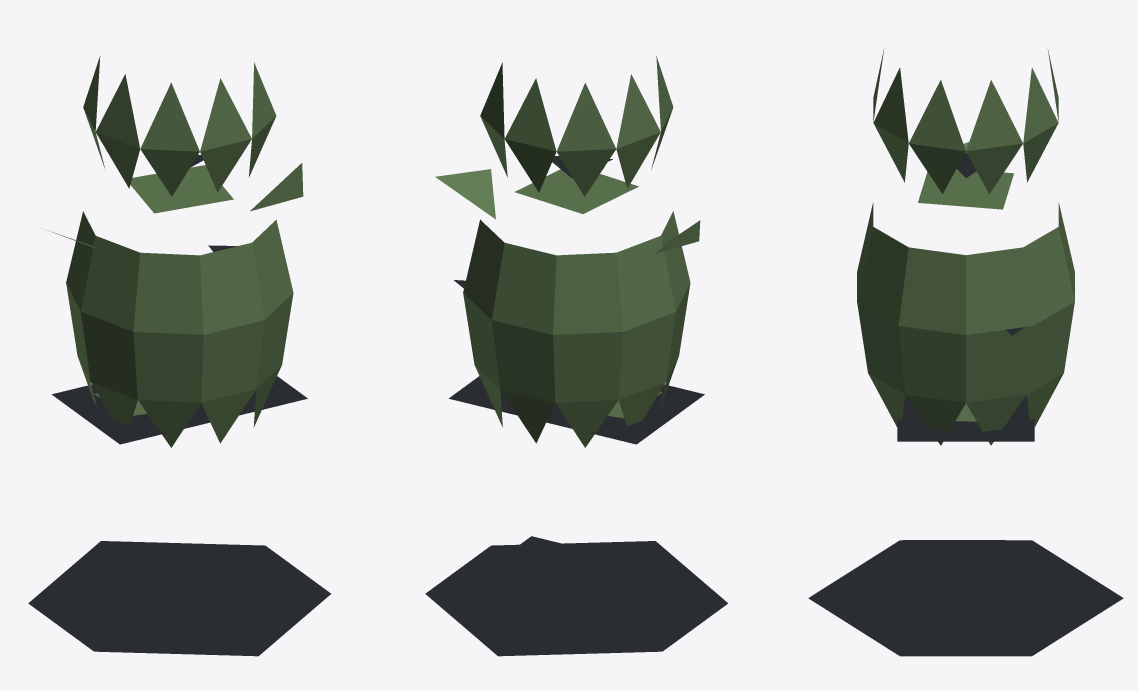
Rendered from chemical-suit.lod.glb.
The picture shows the model from 3 angles, left to right: view 1: azimuth 30°, elevation 25°; view 2: azimuth 150°, elevation 25°; view 3: azimuth 270°, elevation 25°; orthographic projection.
Visible parts, largest first — view 1: m; view 2: m; view 3: m.
Part boxes in pixels (box(x1,y1,x2,y2)): m: box(28, 56, 330, 656); m: box(425, 56, 727, 656); m: box(808, 48, 1123, 656).
Bounding box in the file's own units: 0.3472 × 0.5144 × 0.2572.
